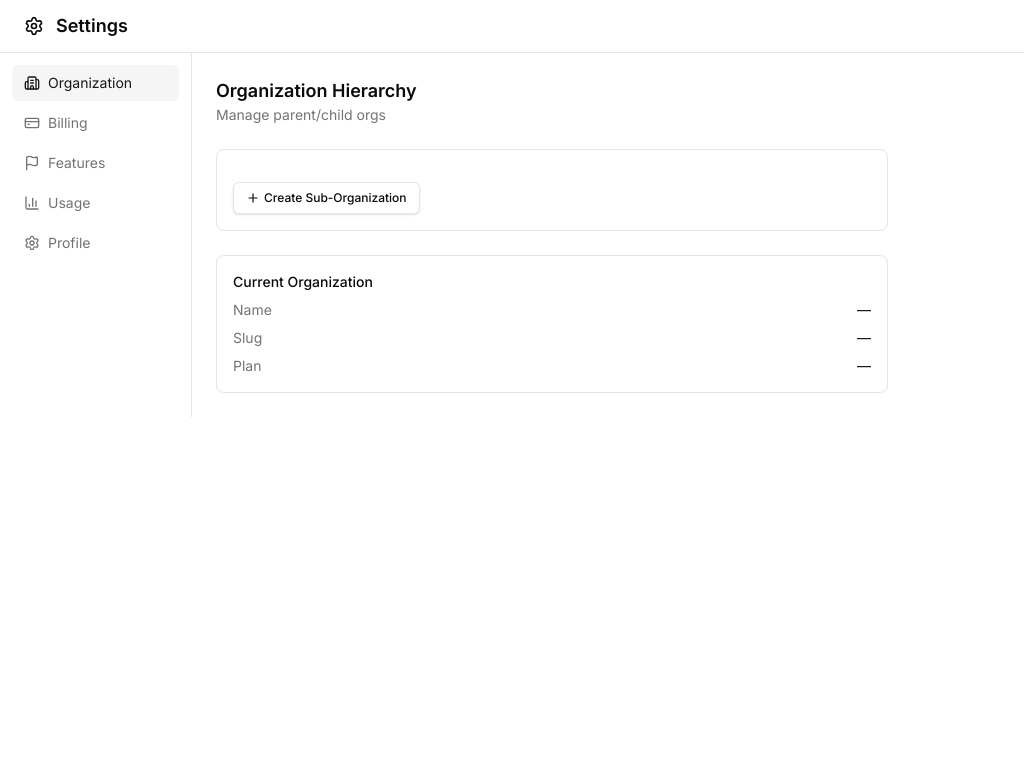
Scenario: SettingsPage › validates slug format on sub-org creation
Click the button "Create Sub-Organization". click: [326, 198]
box: x1=233 y1=182 x2=420 y2=214
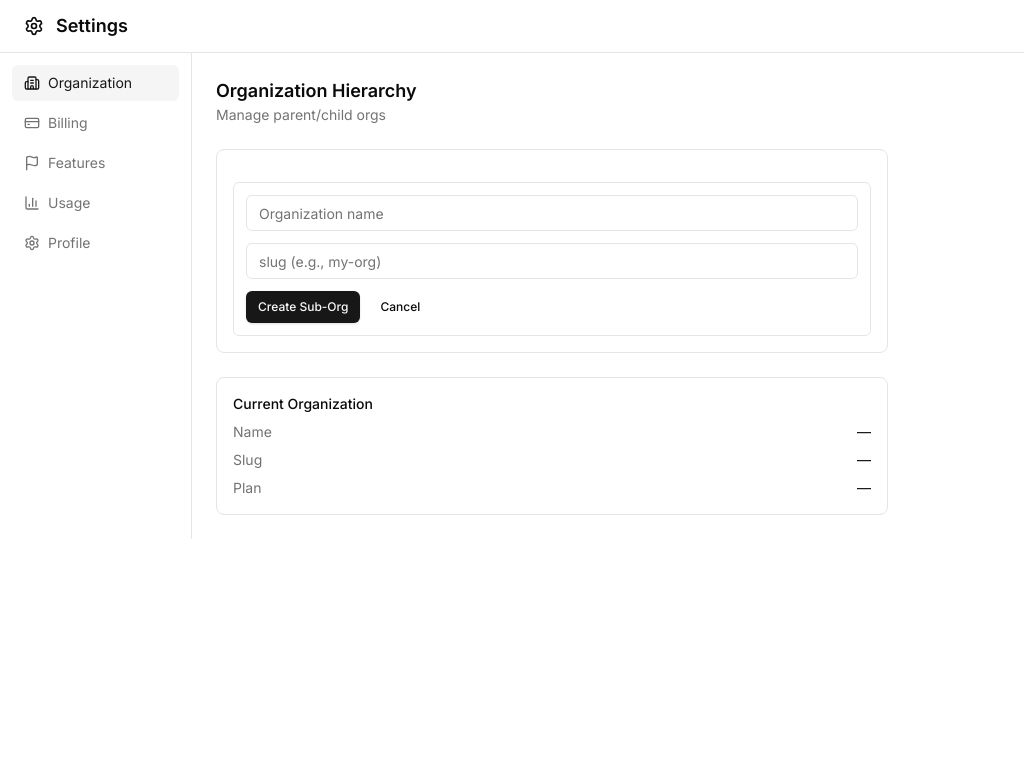
Type "Sub Org" into the field labelled "Organization name". click: [552, 213]
box: x1=246 y1=195 x2=858 y2=231
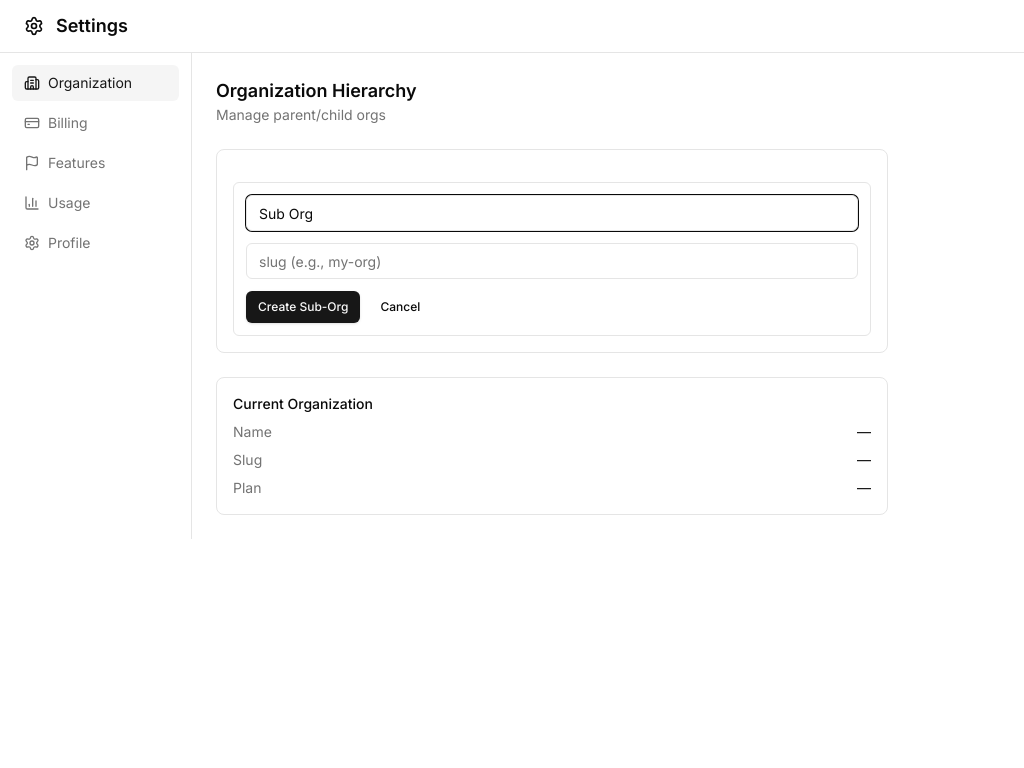
Type "INVALID SLUG" into the field named "Organization slug". click: [552, 261]
box: x1=246 y1=243 x2=858 y2=279
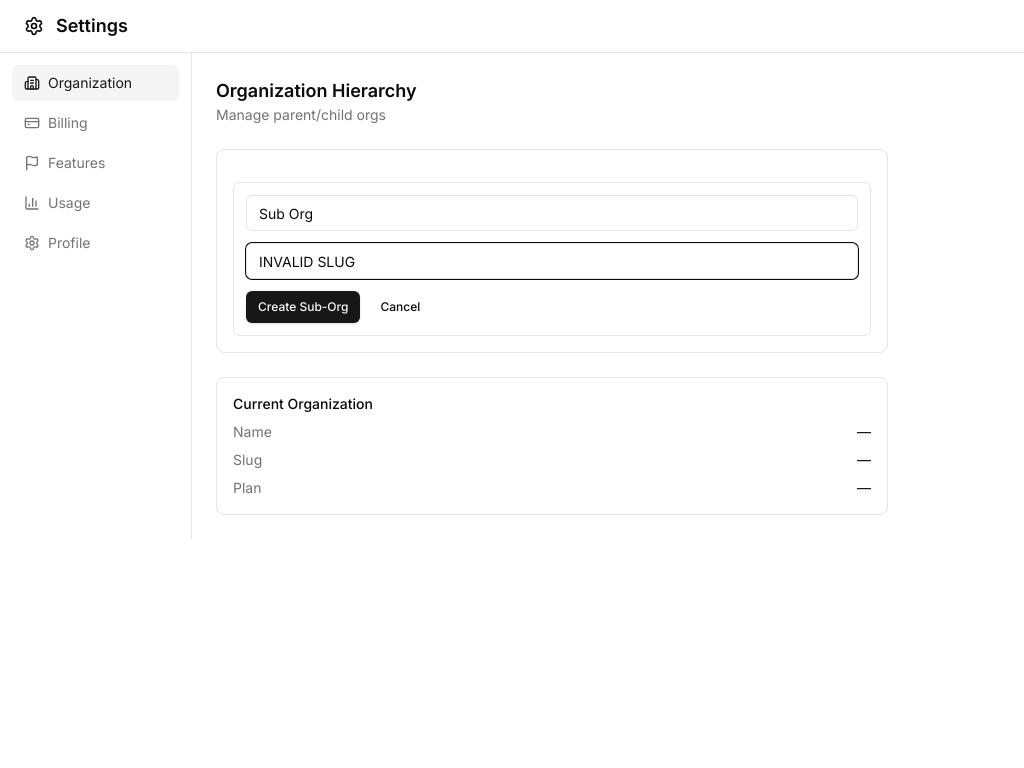
Click the button "Create Sub-Org". click: [303, 307]
box: x1=246 y1=291 x2=360 y2=323
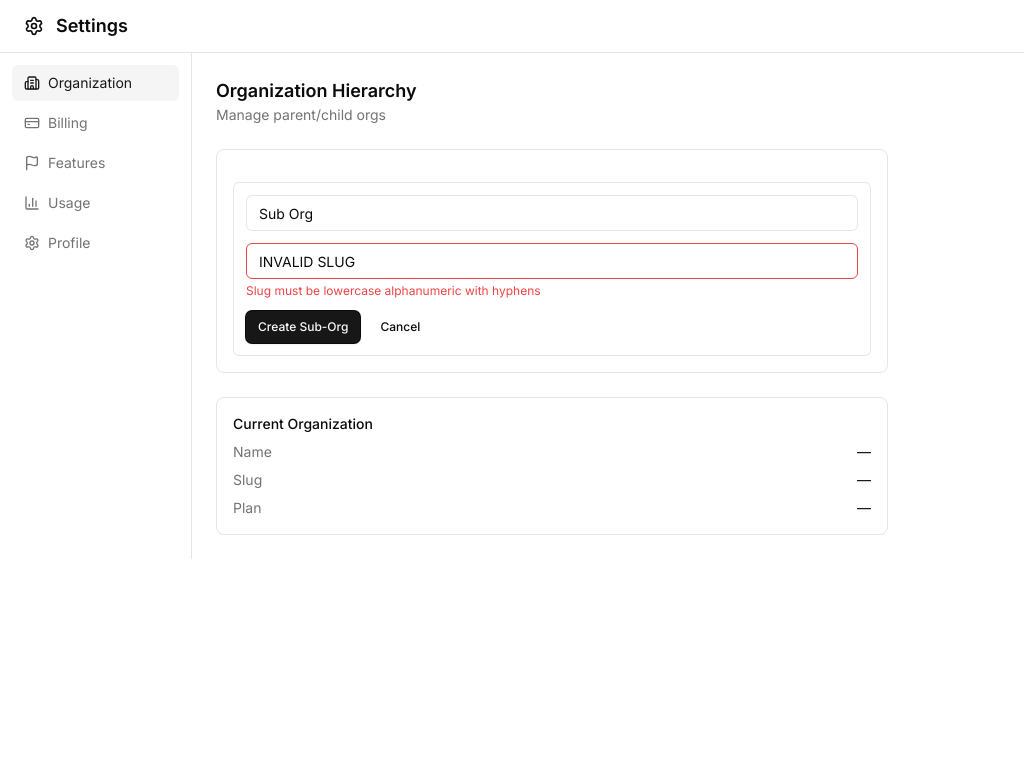
Expected: the text "Slug must be lowercase alphanumeric with hyphens" is shown, x1=246 y1=283 x2=541 y2=298
